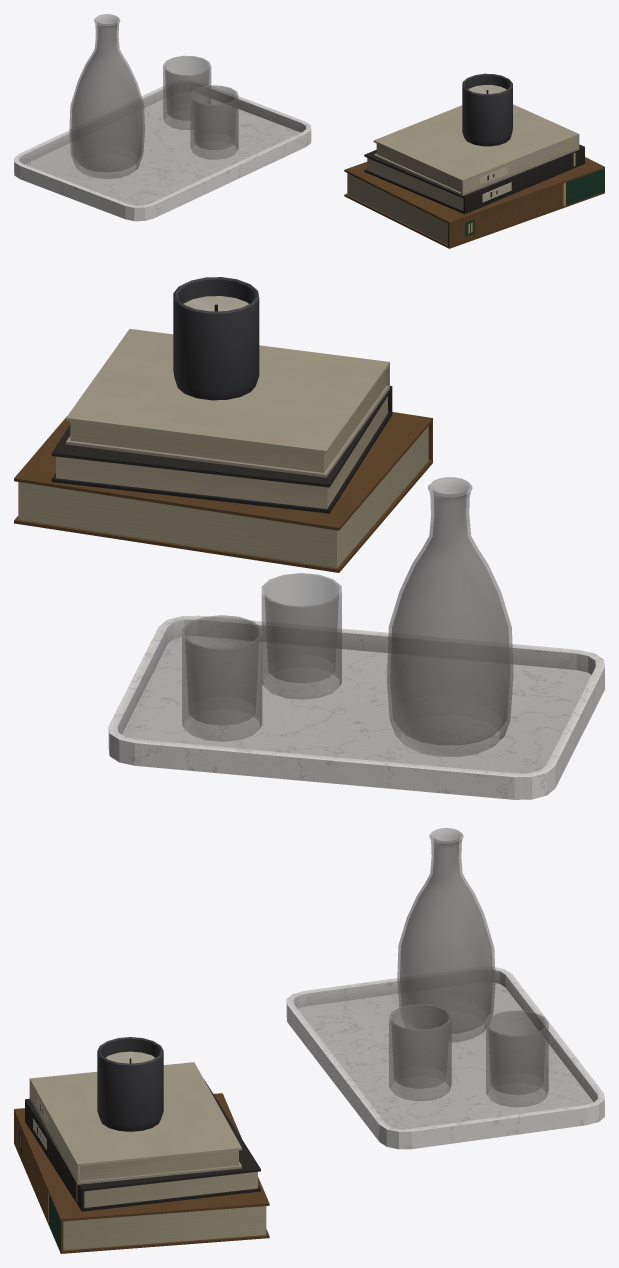
File: decor_a_table_coffee_round_c.gltf
3 views of the same model, one above another, from view 1: azimuth 30°, elevation 25°; view 2: azimuth 150°, elevation 25°; view 3: azimuth 270°, elevation 25° (orthographic). The views are drawn at different scales.
Parts seen in each view (by area): view 1: DecorATableCoffeeRoundC_marble_NoCollide, DecorATableCoffeeRoundC_spines_NoCollide, DecorATableCoffeeRoundC_glass_NoCollide, DecorATableCoffeeRoundC_charcoal_NoCollide; view 2: DecorATableCoffeeRoundC_marble_NoCollide, DecorATableCoffeeRoundC_spines_NoCollide, DecorATableCoffeeRoundC_glass_NoCollide, DecorATableCoffeeRoundC_charcoal_NoCollide, DecorATableCoffeeRoundC_candle_NoCollide; view 3: DecorATableCoffeeRoundC_marble_NoCollide, DecorATableCoffeeRoundC_spines_NoCollide, DecorATableCoffeeRoundC_glass_NoCollide, DecorATableCoffeeRoundC_charcoal_NoCollide.
Boxes of the visible parts, left/top/right/bottom form: DecorATableCoffeeRoundC_marble_NoCollide: left=14, top=80, right=311, bottom=221; DecorATableCoffeeRoundC_spines_NoCollide: left=344, top=104, right=604, bottom=248; DecorATableCoffeeRoundC_glass_NoCollide: left=69, top=14, right=238, bottom=178; DecorATableCoffeeRoundC_charcoal_NoCollide: left=462, top=73, right=512, bottom=146; DecorATableCoffeeRoundC_marble_NoCollide: left=108, top=615, right=604, bottom=799; DecorATableCoffeeRoundC_spines_NoCollide: left=14, top=329, right=432, bottom=572; DecorATableCoffeeRoundC_glass_NoCollide: left=182, top=477, right=513, bottom=756; DecorATableCoffeeRoundC_charcoal_NoCollide: left=173, top=277, right=259, bottom=400; DecorATableCoffeeRoundC_candle_NoCollide: left=183, top=296, right=248, bottom=311; DecorATableCoffeeRoundC_marble_NoCollide: left=286, top=967, right=604, bottom=1149; DecorATableCoffeeRoundC_spines_NoCollide: left=14, top=1062, right=269, bottom=1253; DecorATableCoffeeRoundC_glass_NoCollide: left=389, top=828, right=548, bottom=1106; DecorATableCoffeeRoundC_charcoal_NoCollide: left=97, top=1037, right=163, bottom=1131.
Size of the model in its own units: 0.7293 by 0.2482 by 0.6748.
6 materials, 2 textured.
